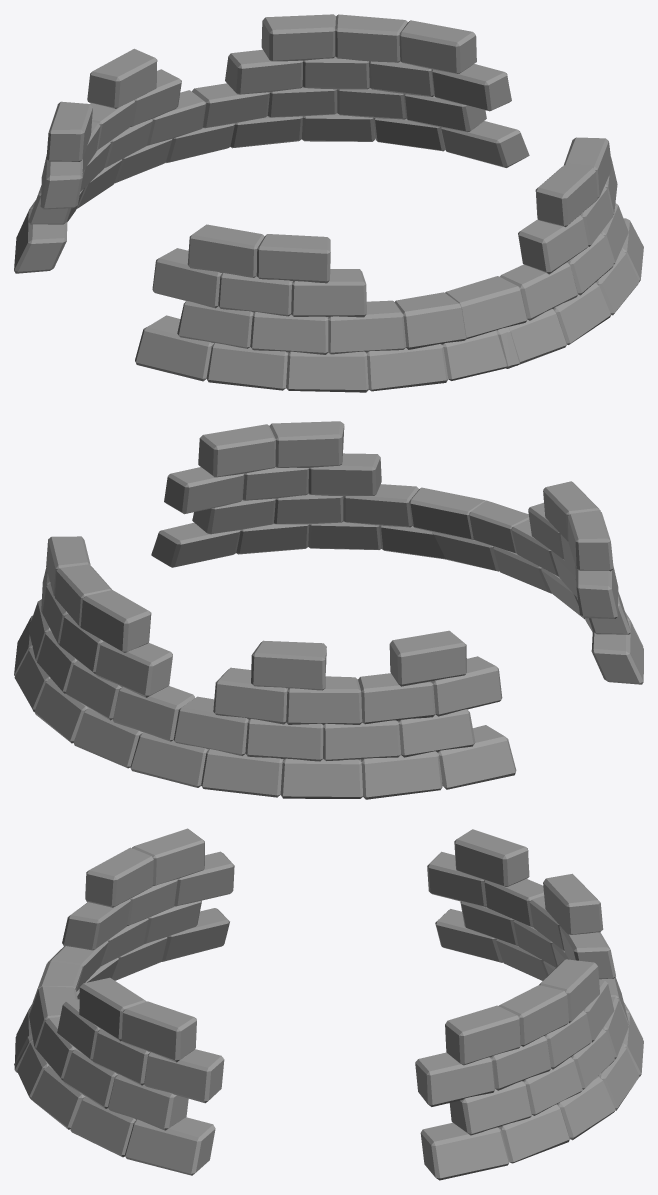
The model's file is roundchunkborders.fbx.
3 renders of one model, top to bottom at view 1: azimuth 30°, elevation 25°; view 2: azimuth 150°, elevation 25°; view 3: azimuth 270°, elevation 25°, orthographic.
Visible parts, largest first — view 1: roundchunkborder; view 2: roundchunkborder; view 3: roundchunkborder.
Part boxes in pixels (<box>): roundchunkborder: <box>14,14,643,392</box>; roundchunkborder: <box>14,421,643,799</box>; roundchunkborder: <box>14,828,643,1180</box>.
Size of the model in its own units: 61.45 by 65.88 by 14.87.
